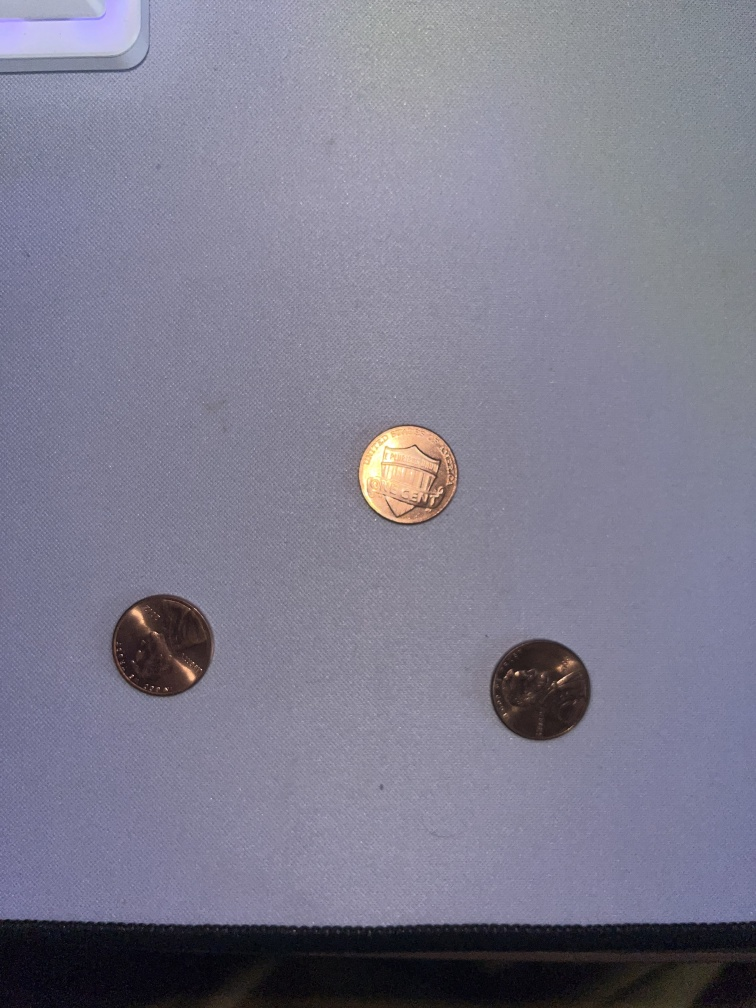penny: (109, 588, 217, 699), (489, 636, 593, 743), (357, 421, 460, 527)
